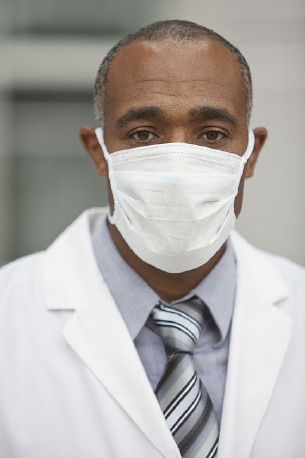Mask: (98, 103, 252, 256)
